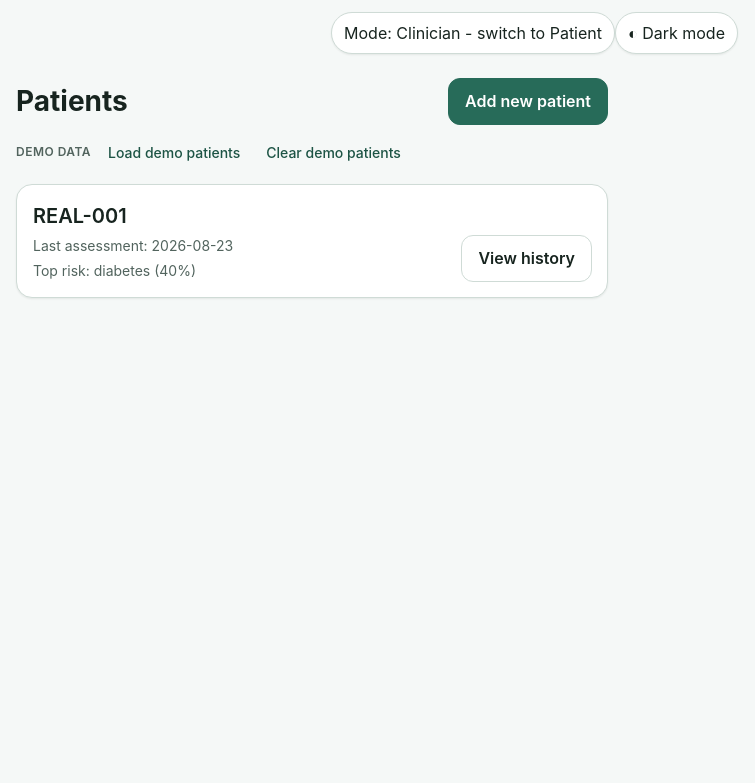
Test: App clinician patient list › clears demo records without removing a real patient
The image size is (755, 783).
Click the button "Load demo patients" at [174, 152], box [99, 137, 249, 168]
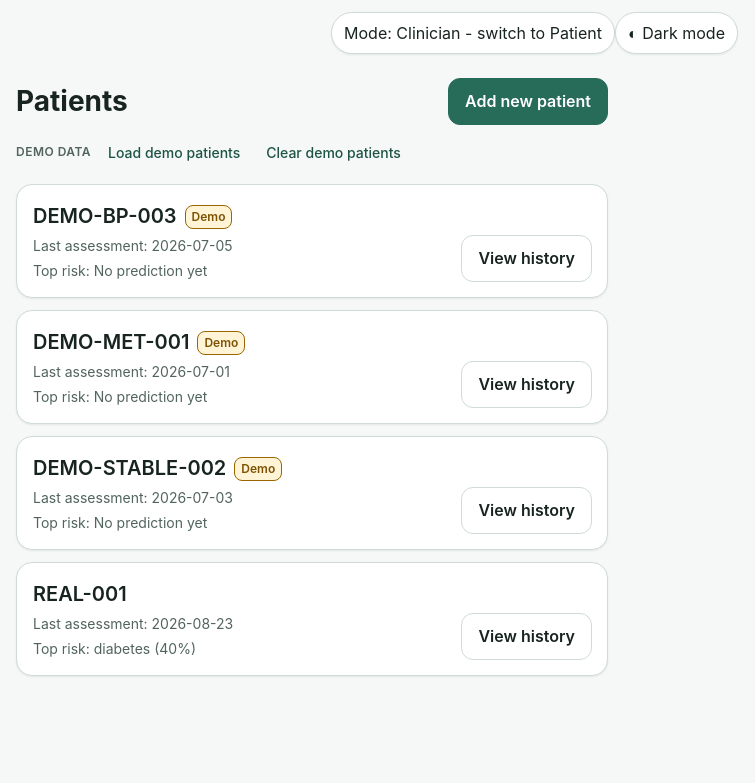
Click the button "Clear demo patients" at [334, 152], box [257, 137, 410, 168]
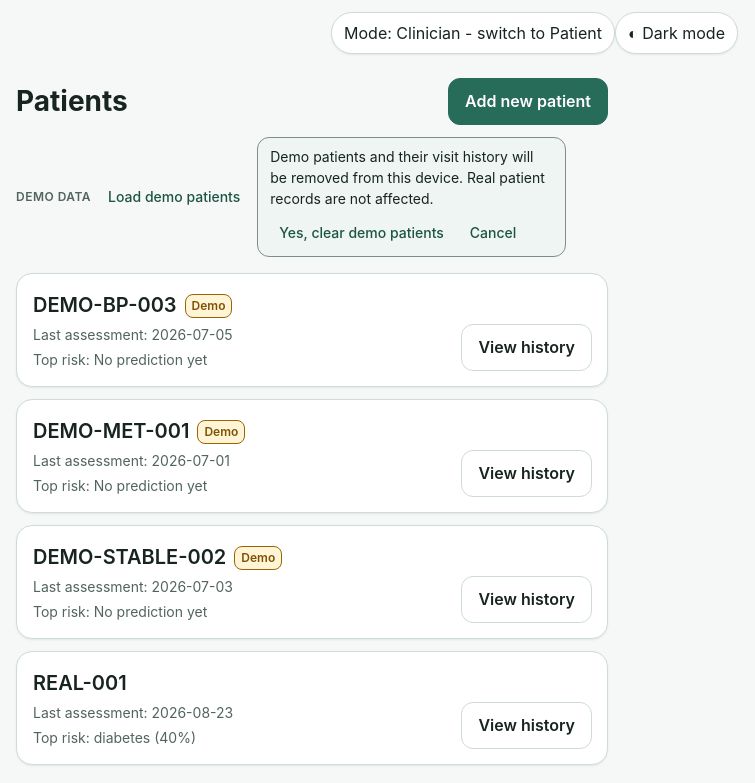
Check: the text "DEMO-MET-001" is shown, box [33, 419, 189, 443]
Click the button "Yes, clear demo patients" at [362, 232], box [270, 217, 453, 248]
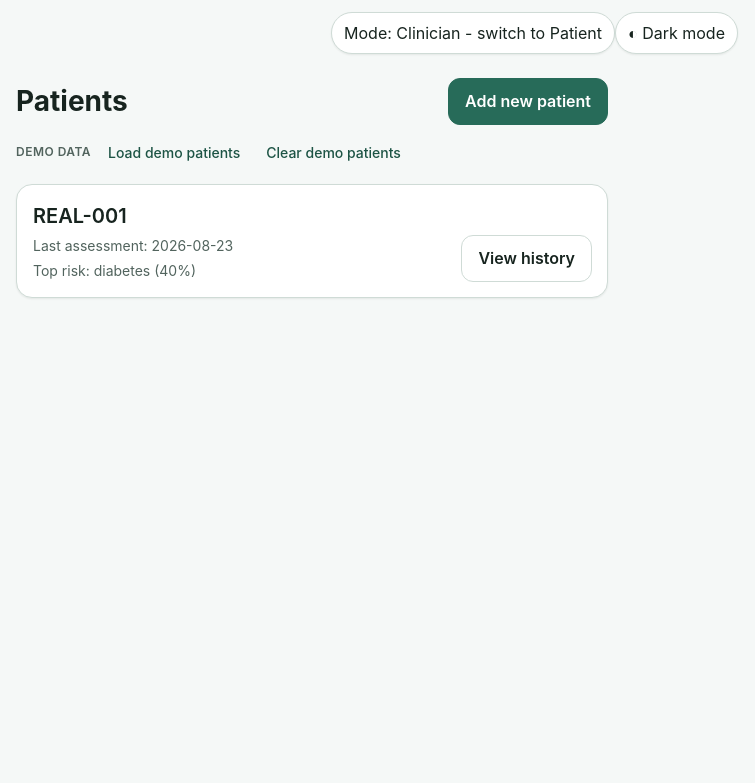
Check: the text "REAL-001" is shown, box [33, 201, 127, 231]
Check: the text "DEMO-MET-001" is gone
